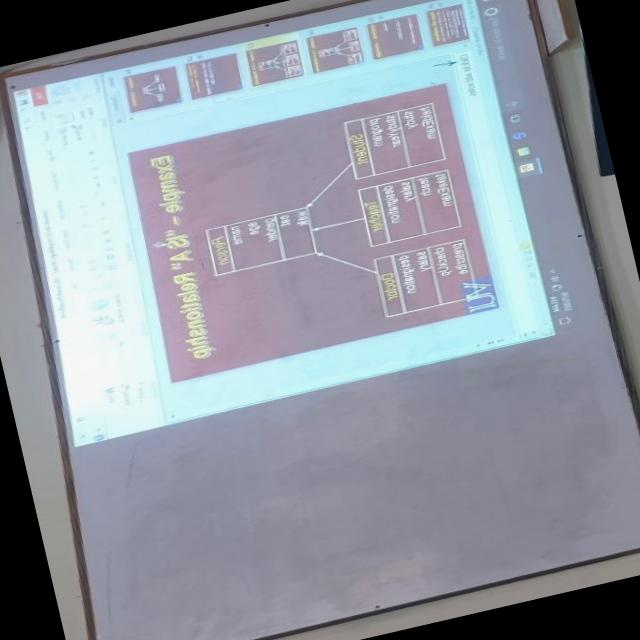Slide: (14, 0, 584, 444)
White-board: (3, 0, 640, 640)
